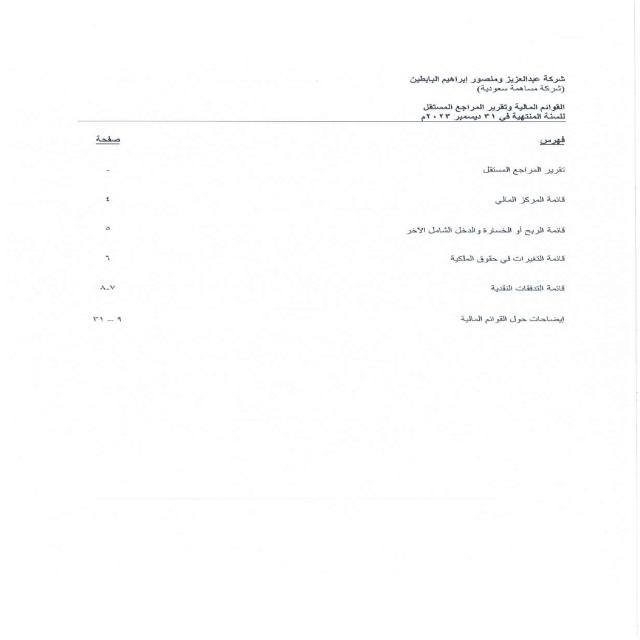other: (49, 127, 570, 349)
